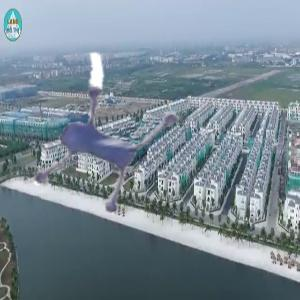drone: (2, 26, 220, 244)
